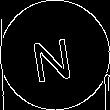N_N: (31, 27, 79, 83)
